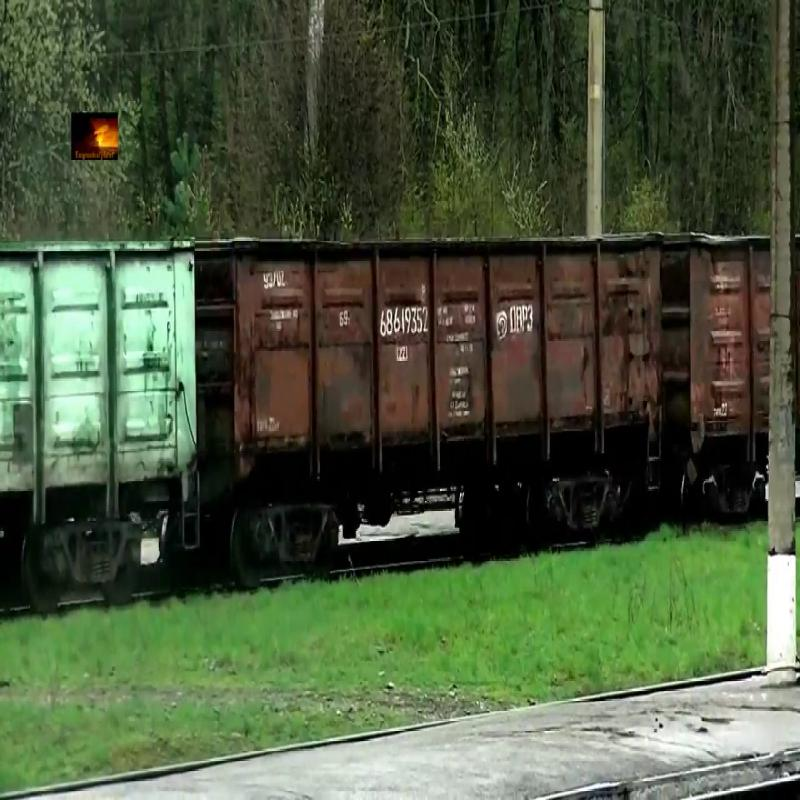train: (198, 232, 664, 481), (1, 239, 197, 528), (666, 229, 770, 463)
